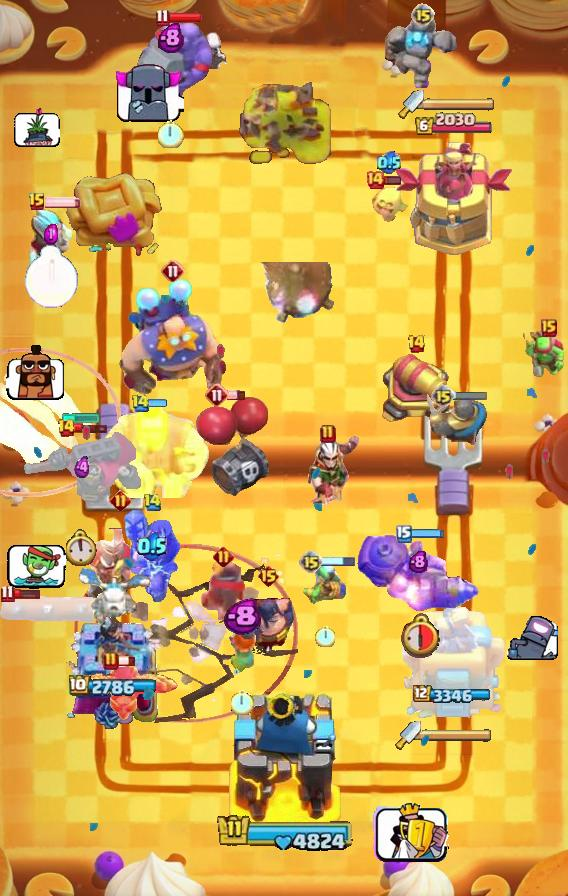archer-queen: (130, 18, 212, 102)
bar: (395, 142, 514, 256), (399, 607, 507, 731)
bat-evolution: (368, 185, 410, 223)
clock: (212, 814, 356, 855)
electro-spirit: (223, 598, 261, 636), (137, 531, 167, 561), (158, 23, 184, 54), (377, 151, 401, 175), (408, 550, 427, 574), (73, 456, 91, 479), (44, 224, 58, 244)
elixir: (24, 245, 79, 309), (396, 612, 439, 658), (66, 529, 98, 567), (158, 120, 184, 149), (230, 689, 253, 715), (315, 625, 335, 647)
emote: (44, 196, 82, 208), (167, 12, 203, 24), (73, 422, 109, 434), (320, 556, 356, 568), (410, 528, 446, 539), (8, 588, 41, 600), (453, 390, 488, 401), (116, 655, 136, 667), (226, 390, 246, 401), (148, 399, 168, 410), (383, 175, 402, 186)
firecracker: (427, 394, 489, 446), (201, 562, 247, 620)
giant-skeleton: (100, 404, 210, 498)
giant-snowball: (520, 329, 568, 379), (300, 561, 350, 605)
golden-knight: (69, 657, 179, 723)
guard: (74, 544, 298, 723)
heal-spirit: (194, 27, 228, 69)
hog-rider: (223, 626, 261, 678)
ice-spirit: (61, 411, 103, 423)
ice-wizard: (0, 347, 120, 497)
inferno-dragon: (123, 508, 181, 602)
inferno-tower: (21, 432, 143, 522)
king-tower: (226, 688, 342, 826)
king-tower-bar: (424, 97, 496, 111), (421, 728, 493, 742)
little-prince: (117, 276, 229, 396)
mini-pekka: (75, 566, 155, 628)
minion: (0, 591, 108, 627)
monk: (240, 584, 296, 656)
mortar: (26, 206, 76, 270)
queen-tower: (65, 614, 162, 730)
royal-recruit: (377, 351, 455, 427)
royal-recruit-evolution: (196, 395, 274, 501)
selected: (69, 674, 159, 698), (414, 112, 494, 137), (413, 685, 493, 705)
skeleton: (371, 804, 449, 865), (112, 62, 184, 126), (6, 344, 66, 401), (6, 542, 65, 589), (506, 616, 559, 662), (12, 106, 59, 148)
skeleton-king: (294, 435, 362, 511)
text: (411, 3, 435, 27), (161, 259, 185, 283), (205, 383, 229, 407), (431, 384, 455, 408), (299, 550, 323, 574), (256, 564, 280, 588), (110, 490, 131, 511), (213, 546, 234, 567), (365, 170, 385, 190), (406, 334, 425, 354), (56, 418, 75, 438), (28, 192, 46, 212), (130, 395, 150, 413), (143, 493, 162, 511), (320, 424, 336, 444), (103, 651, 119, 671), (541, 319, 557, 337), (396, 525, 412, 543), (154, 8, 169, 27), (1, 584, 16, 603)
valkyrie-evolution: (385, 16, 461, 94)
wall-breaker-evolution: (78, 510, 162, 602)
wizard: (356, 534, 480, 612)
x-bow: (257, 263, 339, 325)
